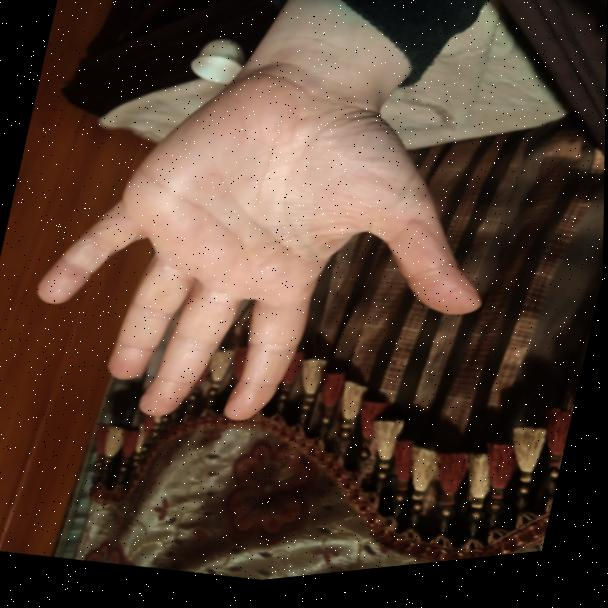five: (7, 8, 538, 494)
